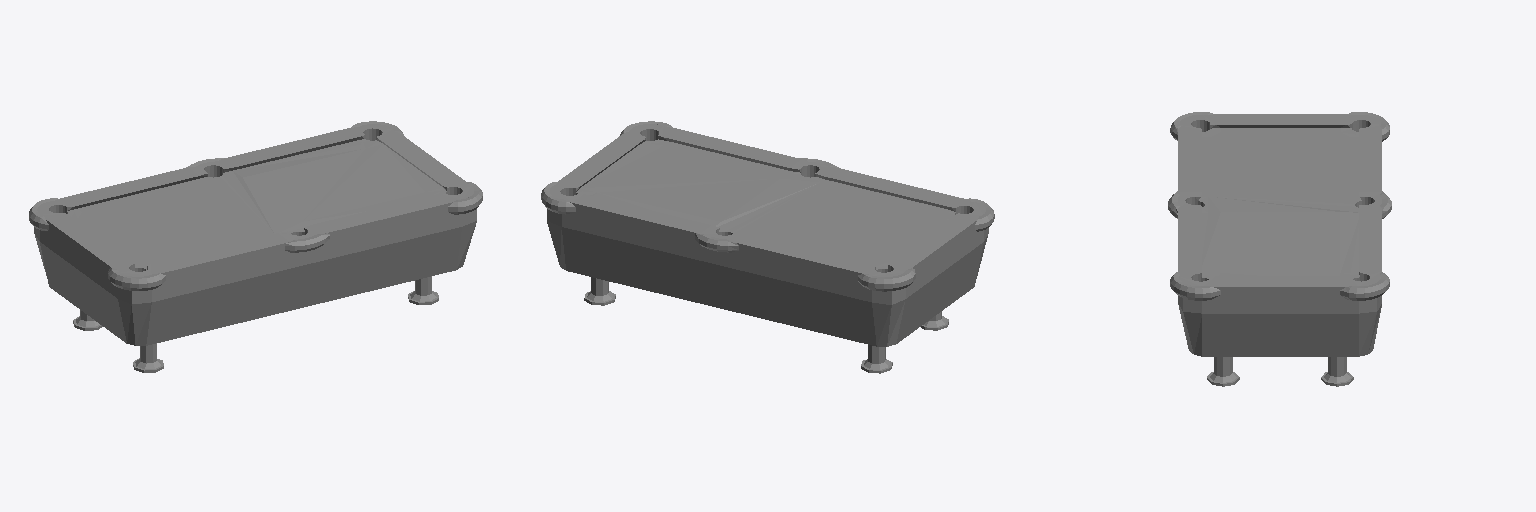
The model's file is table.obj.
3 renders of one model, left to right at view 1: azimuth 30°, elevation 25°; view 2: azimuth 150°, elevation 25°; view 3: azimuth 270°, elevation 25°, orthographic.
Parts seen in each view (by area): view 1: Line009, Cylinder002, Cylinder007, Cylinder006, Cylinder004, Object002; view 2: Line009, Cylinder001, Cylinder008, Cylinder005, Cylinder003; view 3: Line009, Cylinder004, Cylinder003, Cylinder006, Cylinder005.
Part boxes in pixels (x1,y1,x2,y2): Line009: (34,124,476,345); Cylinder002: (108,268,165,290); Cylinder007: (133,343,163,372); Cylinder006: (408,276,438,304); Cylinder004: (448,182,482,214); Object002: (285,233,329,252); Line009: (547,124,988,346); Cylinder001: (858,268,915,291); Cylinder008: (861,345,892,373); Cylinder005: (584,277,615,305); Cylinder003: (541,182,575,214); Line009: (1178,114,1381,356); Cylinder004: (1170,272,1220,300); Cylinder003: (1340,272,1389,300); Cylinder006: (1207,357,1239,386); Cylinder005: (1321,357,1353,386).
Bounding box in the file's own units: 129 × 37.6 × 67.95.